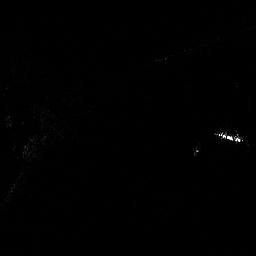ship: (210, 125, 249, 147)
